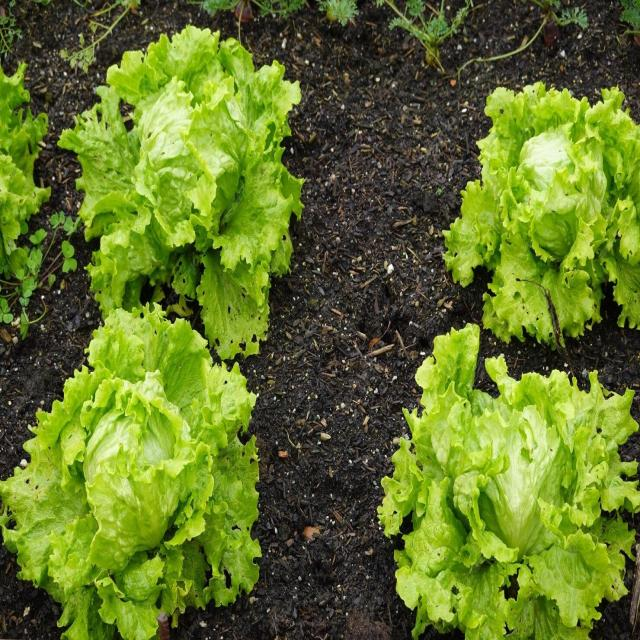lista_para_cosechar: (0, 306, 260, 639), (378, 324, 640, 639), (59, 25, 303, 358), (445, 82, 640, 341)
